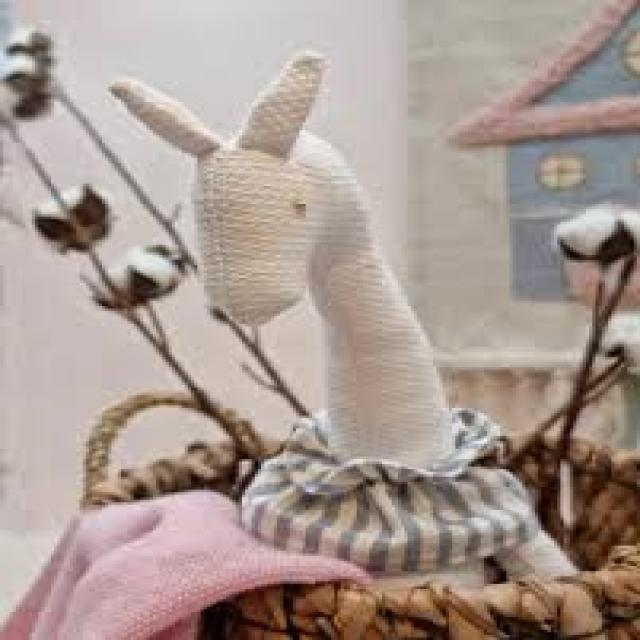soft-toy: (111, 52, 575, 576)
